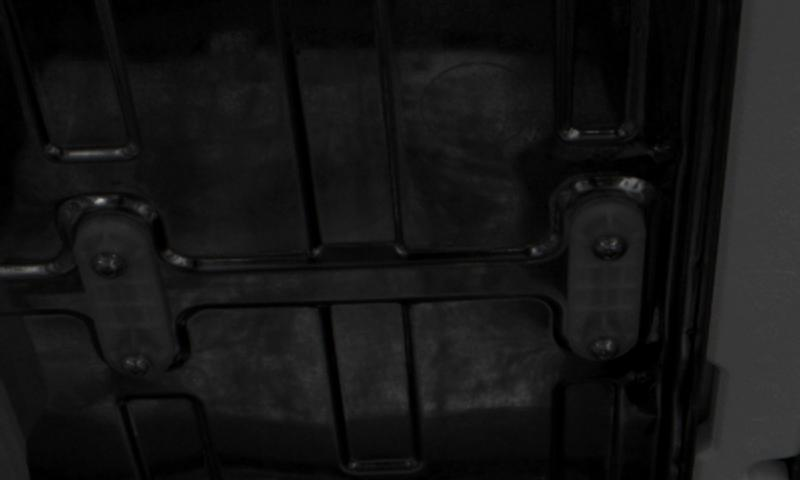vida-ok: (592, 225, 635, 270), (87, 238, 127, 283), (115, 347, 157, 387), (586, 328, 626, 366)
